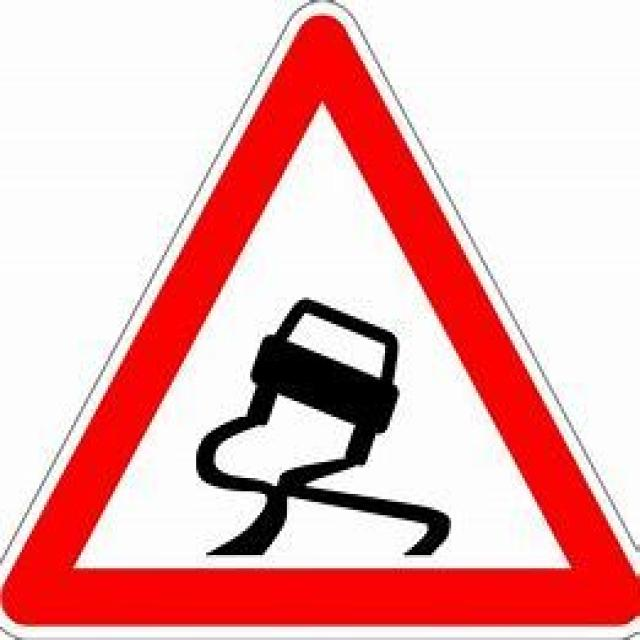children: (0, 0, 638, 635)
